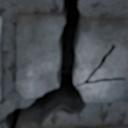brick: (0, 16, 1, 98), (69, 126, 127, 127)
broken_brick: (75, 18, 127, 103), (15, 12, 63, 98)
crack: (2, 0, 126, 127)
